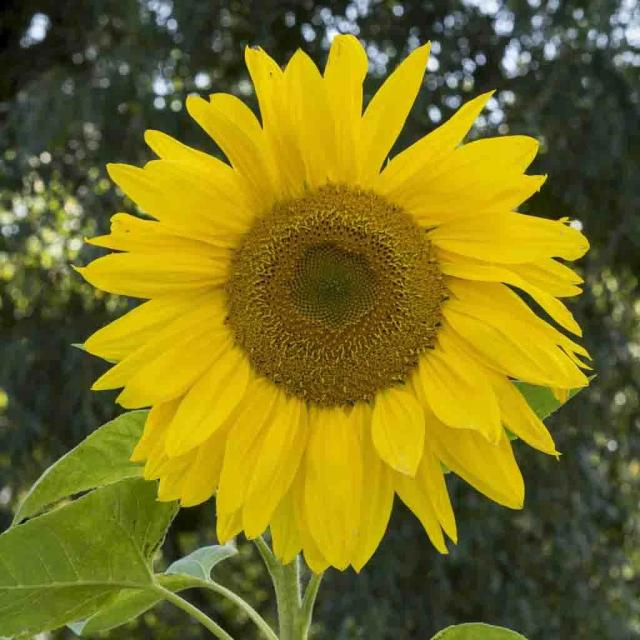sunflower: (63, 27, 601, 572)
